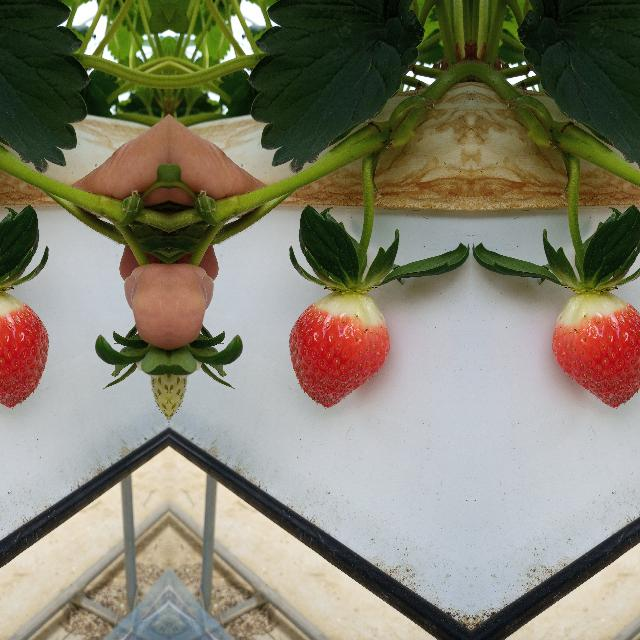Health_100: (288, 292, 390, 408), (551, 291, 640, 408), (0, 291, 48, 408)
